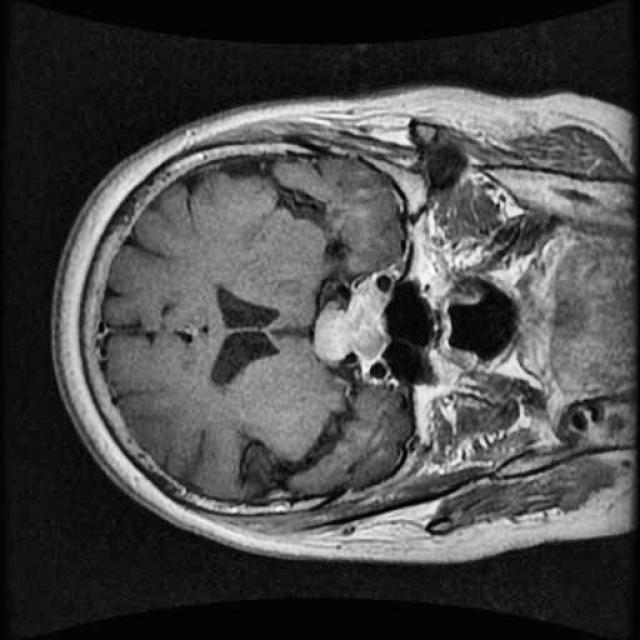Tumor: (304, 262, 404, 374)
